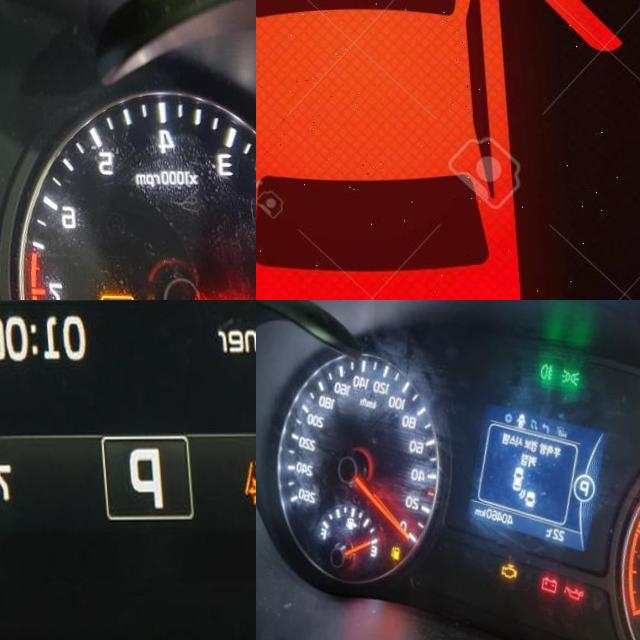FrontFogLight: (535, 360, 552, 382)
Low fuel level: (384, 544, 396, 560)
SideLamp: (556, 367, 579, 386)
